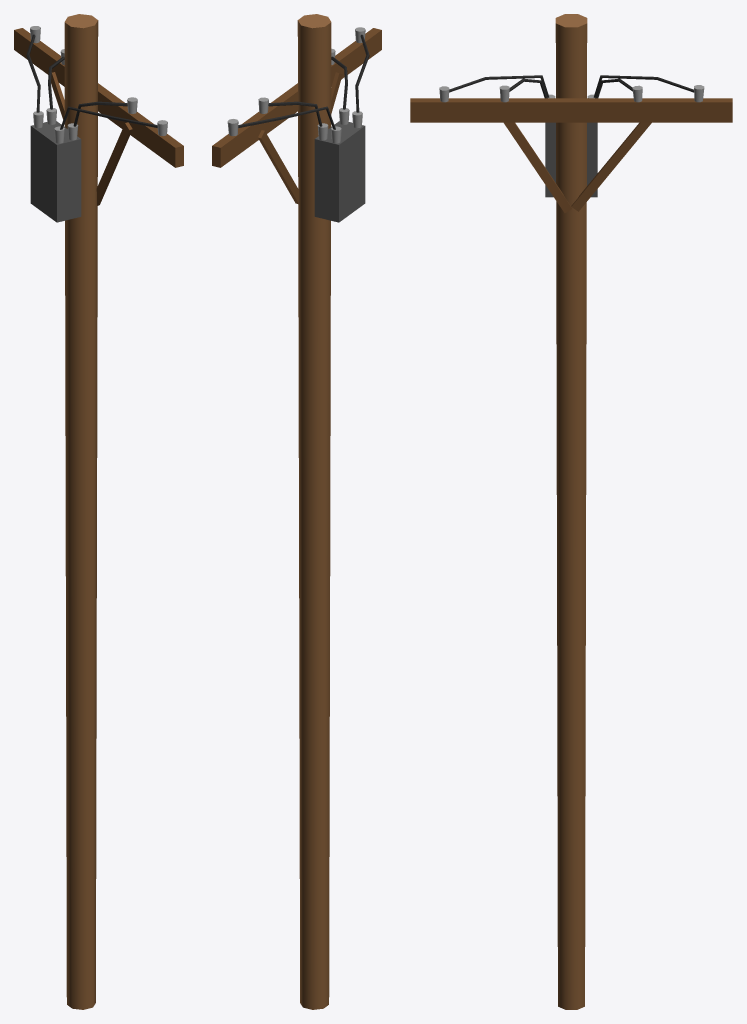
File: SM_Props_Electric_02.fbx
The picture shows the model from 3 angles, left to right: view 1: azimuth 30°, elevation 25°; view 2: azimuth 150°, elevation 25°; view 3: azimuth 270°, elevation 25°; orthographic projection.
Visible parts, largest first — view 1: SM_Props_Electric_02; view 2: SM_Props_Electric_02; view 3: SM_Props_Electric_02.
Part boxes in pixels (x1=…): SM_Props_Electric_02: x1=14, y1=14, x2=183, y2=1009; SM_Props_Electric_02: x1=212, y1=14, x2=381, y2=1009; SM_Props_Electric_02: x1=410, y1=14, x2=732, y2=1009.
Size of the model in its own units: 0.4091 by 6.43 by 1.91.
